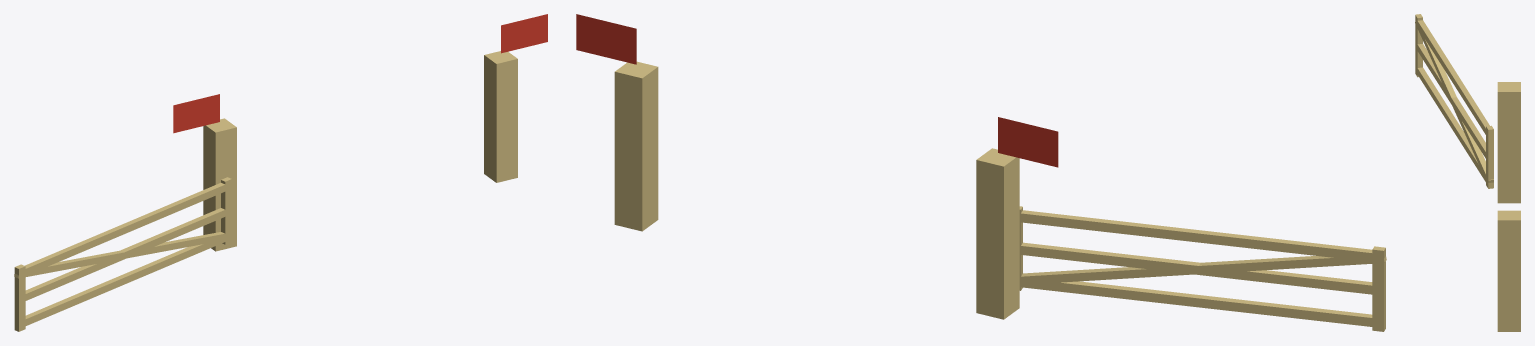
File: PenGate.glb
3 renders of one model, left to right at view 1: azimuth 30°, elevation 25°; view 2: azimuth 150°, elevation 25°; view 3: azimuth 270°, elevation 25°, orthographic. The views are drawn at different scales.
Parts seen in each view (by area): view 1: Bar (×6), GatePostR, GatePostL, FlagL, FlagR; view 2: Bar (×5), GatePostR, GatePostL, FlagR, FlagL; view 3: Bar (×6), GatePostL, GatePostR.
Boxes of the visible parts, x1=… form: Bar (×6): x1=14, y1=177, x2=232, y2=331; GatePostR: x1=484, y1=51, x2=517, y2=182; GatePostL: x1=203, y1=118, x2=236, y2=251; FlagL: x1=173, y1=94, x2=219, y2=133; FlagR: x1=501, y1=14, x2=547, y2=53; Bar (×5): x1=1019, y1=210, x2=1386, y2=331; GatePostR: x1=614, y1=61, x2=658, y2=231; GatePostL: x1=976, y1=148, x2=1019, y2=319; FlagR: x1=576, y1=14, x2=636, y2=64; FlagL: x1=998, y1=117, x2=1058, y2=167; Bar (×6): x1=1415, y1=14, x2=1493, y2=188; GatePostL: x1=1497, y1=82, x2=1520, y2=203; GatePostR: x1=1497, y1=210, x2=1520, y2=331.
Bounding box in the file's own units: 86.85 × 21.5 × 14.61.
